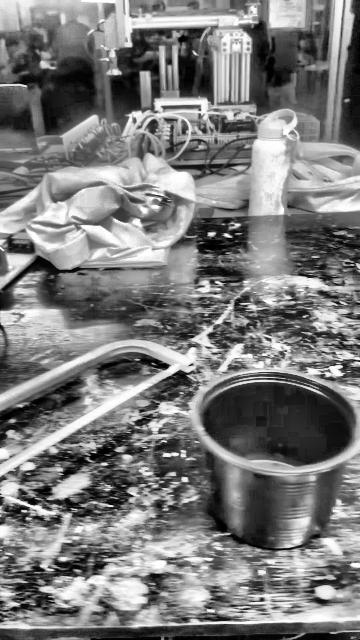pot: (194, 370, 360, 549)
